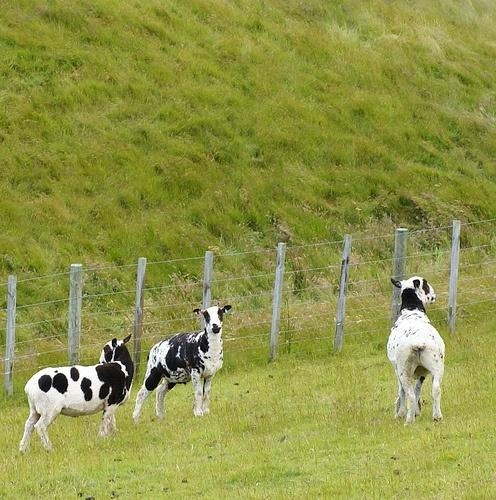sheep: (19, 334, 135, 452), (135, 305, 234, 423), (388, 277, 445, 424)
